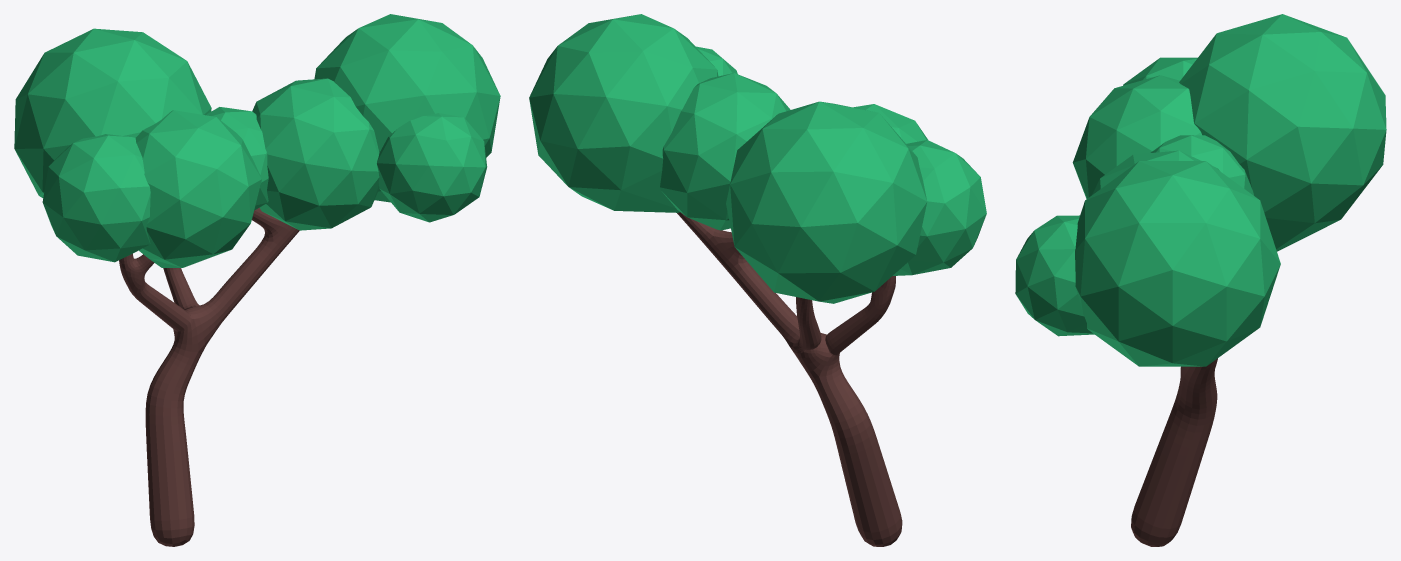
Rendered from ArbolTipo2.fbx.
3 views of the same model, side by side, from view 1: azimuth 30°, elevation 25°; view 2: azimuth 150°, elevation 25°; view 3: azimuth 270°, elevation 25° (orthographic). The views are drawn at different scales.
Visible parts, largest first — view 1: Icosphere.004, Cube; view 2: Icosphere.004, Cube; view 3: Icosphere.004, Cube.
Part boxes in pixels (bbox=[...]): Icosphere.004: bbox=[14, 14, 500, 267]; Cube: bbox=[119, 207, 299, 546]; Icosphere.004: bbox=[529, 14, 986, 303]; Cube: bbox=[677, 212, 902, 546]; Icosphere.004: bbox=[1015, 14, 1386, 366]; Cube: bbox=[1131, 358, 1217, 546].
Size of the model in its own units: 972 by 1010 by 658.
